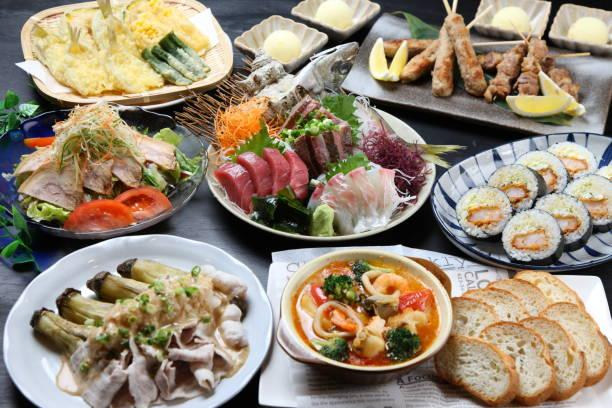Braised Crucian Carp: (4, 234, 269, 405), (344, 7, 609, 138), (205, 100, 430, 241), (4, 104, 208, 239), (433, 134, 612, 272), (19, 0, 232, 108), (279, 249, 451, 373)
